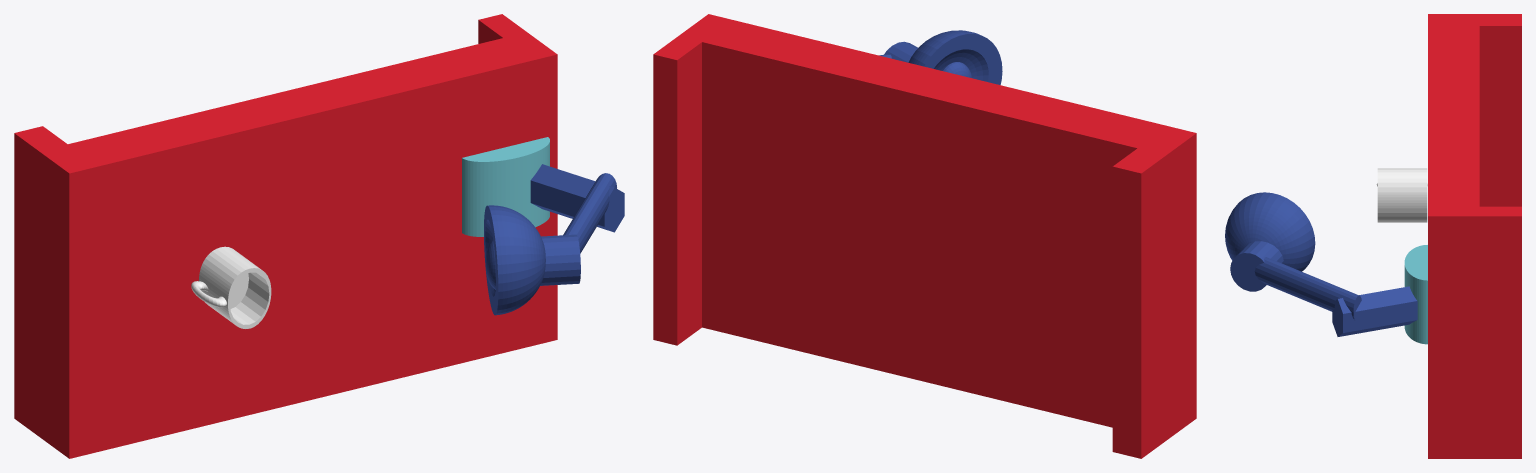
File: tinker.obj
3 views of the same model, side by side, from view 1: azimuth 30°, elevation 25°; view 2: azimuth 150°, elevation 25°; view 3: azimuth 270°, elevation 25° (orthographic). The views are drawn at different scales.
Visible parts, largest first — view 1: group_0_15277357, group_0_3888547, group_0_7720667, group_0_16448250; view 2: group_0_15277357, group_0_3888547; view 3: group_0_15277357, group_0_3888547, group_0_16448250, group_0_7720667.
Boxes of the visible parts, <box> form: group_0_15277357: <box>14,14,557,458</box>; group_0_3888547: <box>484,164,624,315</box>; group_0_7720667: <box>462,137,549,236</box>; group_0_16448250: <box>191,246,271,328</box>; group_0_15277357: <box>653,14,1196,458</box>; group_0_3888547: <box>879,30,1002,84</box>; group_0_15277357: <box>1428,14,1521,458</box>; group_0_3888547: <box>1225,192,1417,336</box>; group_0_16448250: <box>1376,168,1427,222</box>; group_0_7720667: <box>1404,245,1427,344</box>.
Size of the model in its own units: 106 by 57 by 63.23.
